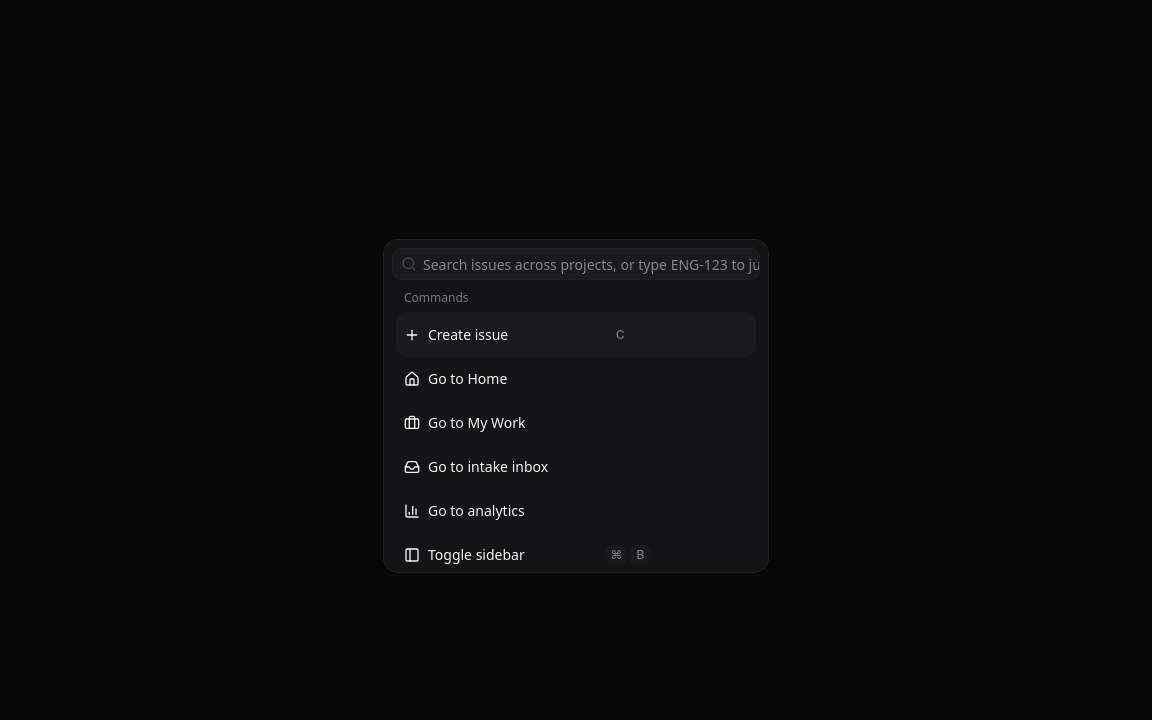
Test: global command palette › shows an error when the display ID resolves to nothing
The width and height of the screenshot is (1152, 720).
Type "ZZZ-9" into the dropdown with placeholder "Search issues across projects, or type ENG-123 to jump…" at coordinates (588, 264), box [417, 240, 759, 288]
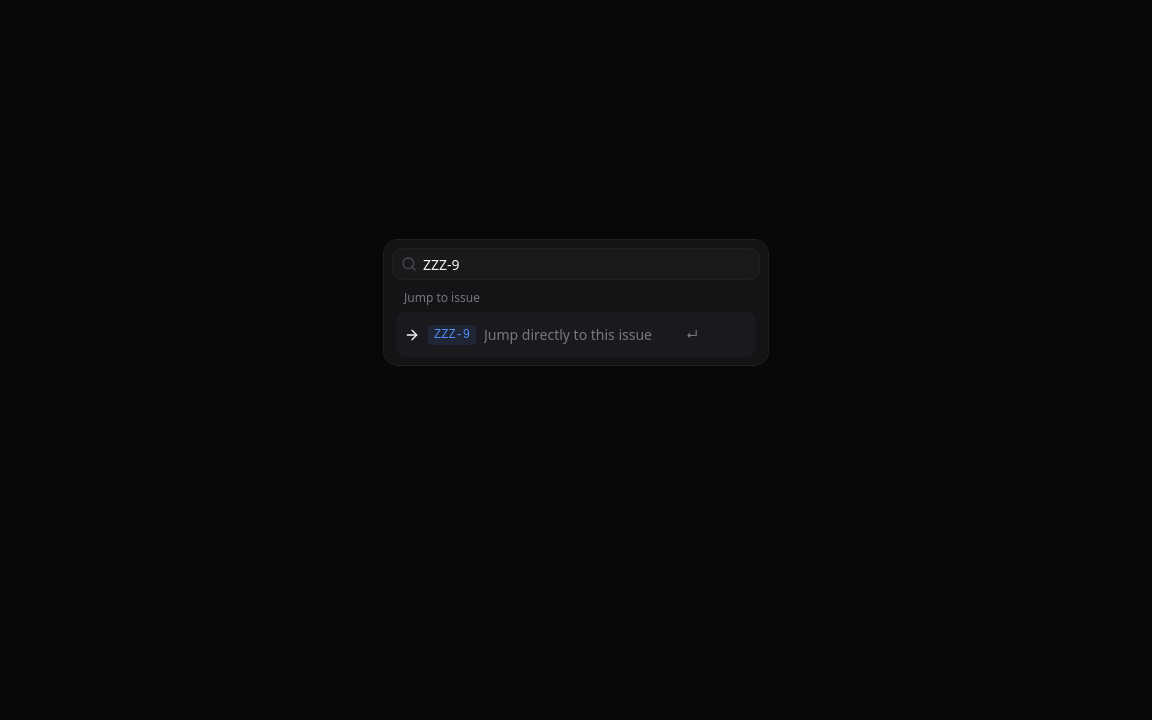
Expected: the text "Jump directly to this issue" is shown, [484, 324, 652, 344]
Press Enter in the dropdown, box [417, 240, 759, 288]
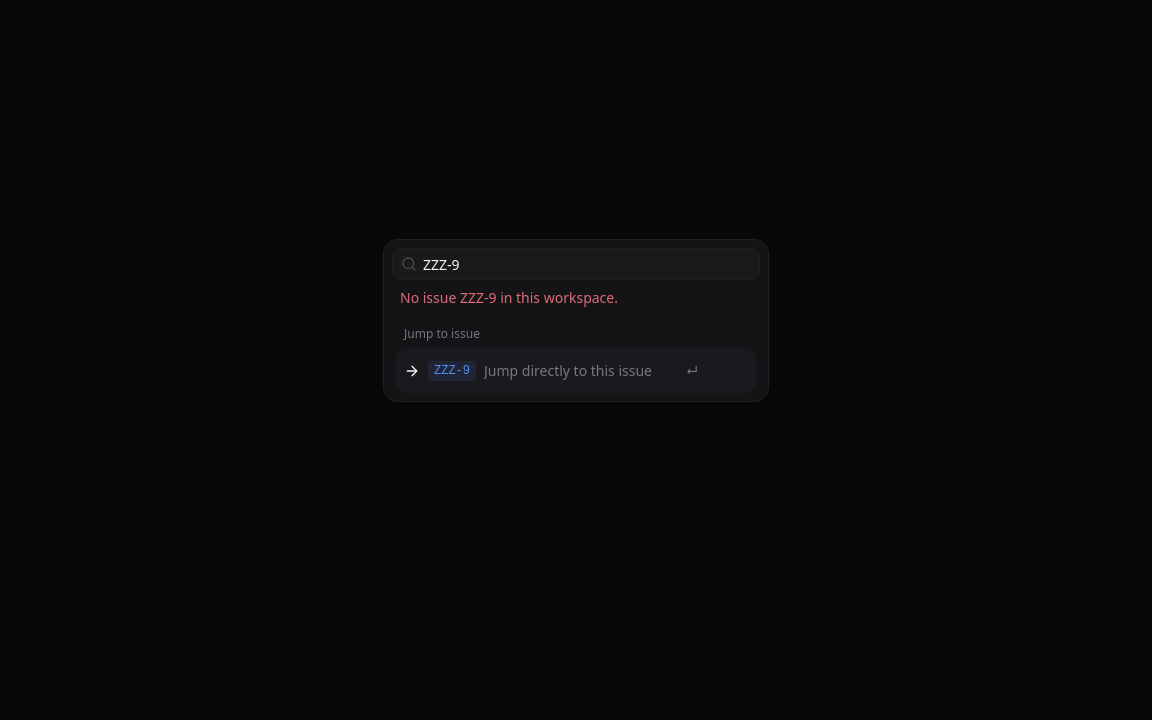
Expected: the text "No issue ZZZ-9 in this workspace." is shown, [400, 288, 618, 307]
